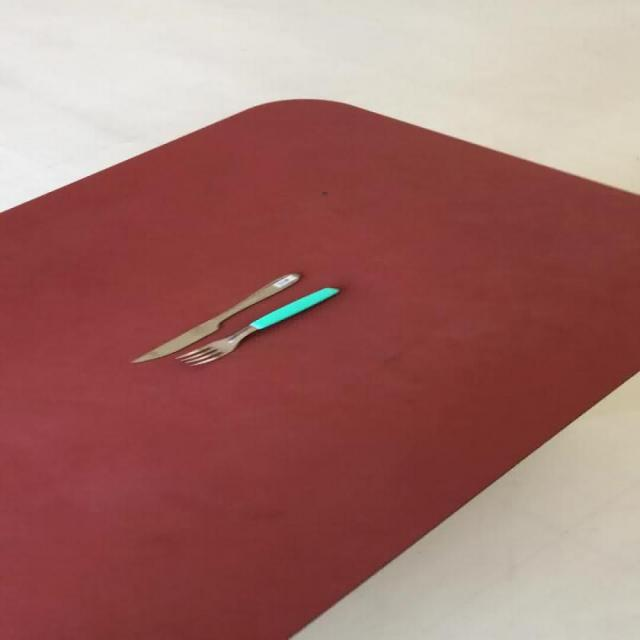Fork: (173, 286, 340, 366)
Knife: (128, 270, 302, 362)
